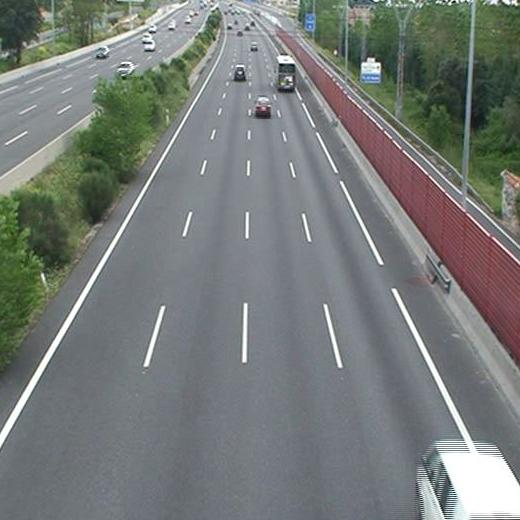bus: (277, 56, 295, 90)
car: (256, 98, 271, 116), (234, 66, 245, 79), (249, 42, 257, 50)
